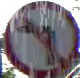Don't turn left: (4, 0, 79, 77)
